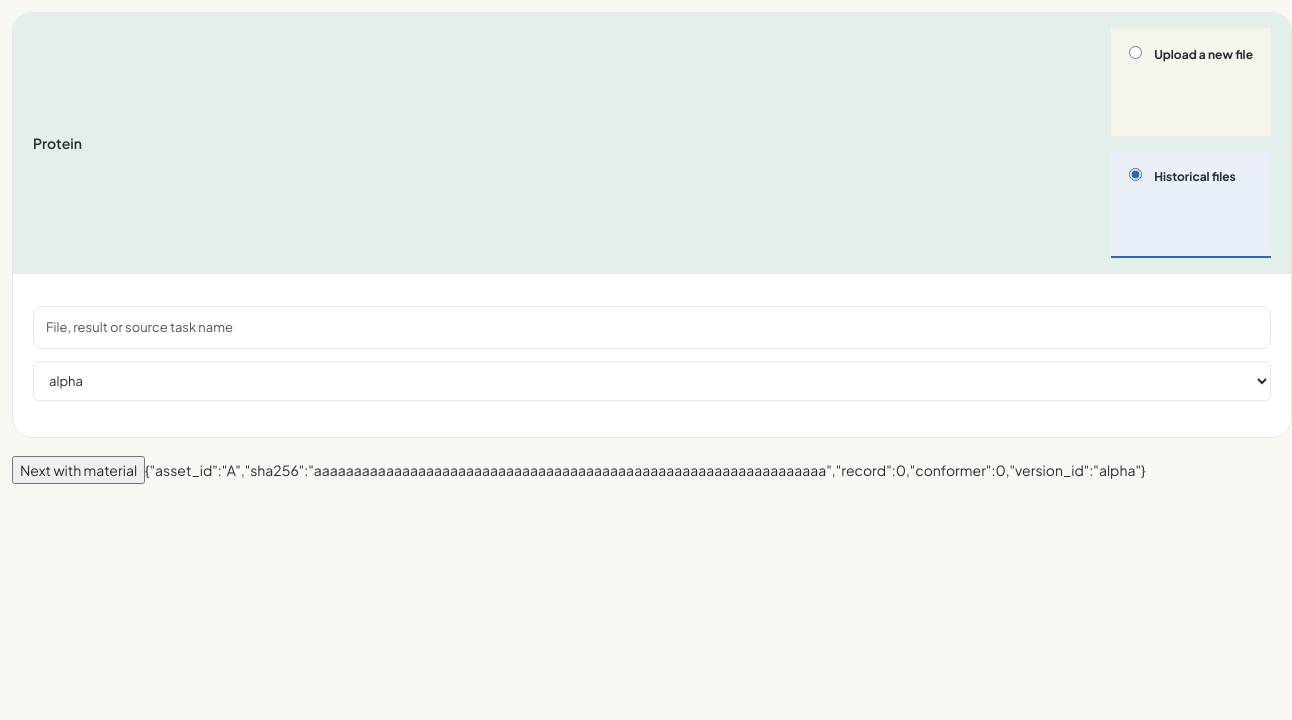
Test: rejects a saved-version hash mismatch and does not reveal internal service details
Select "beta" in the dropdown named "Protein · Historical files" at [652, 381], box x1=33 y1=361 x2=1271 y2=401
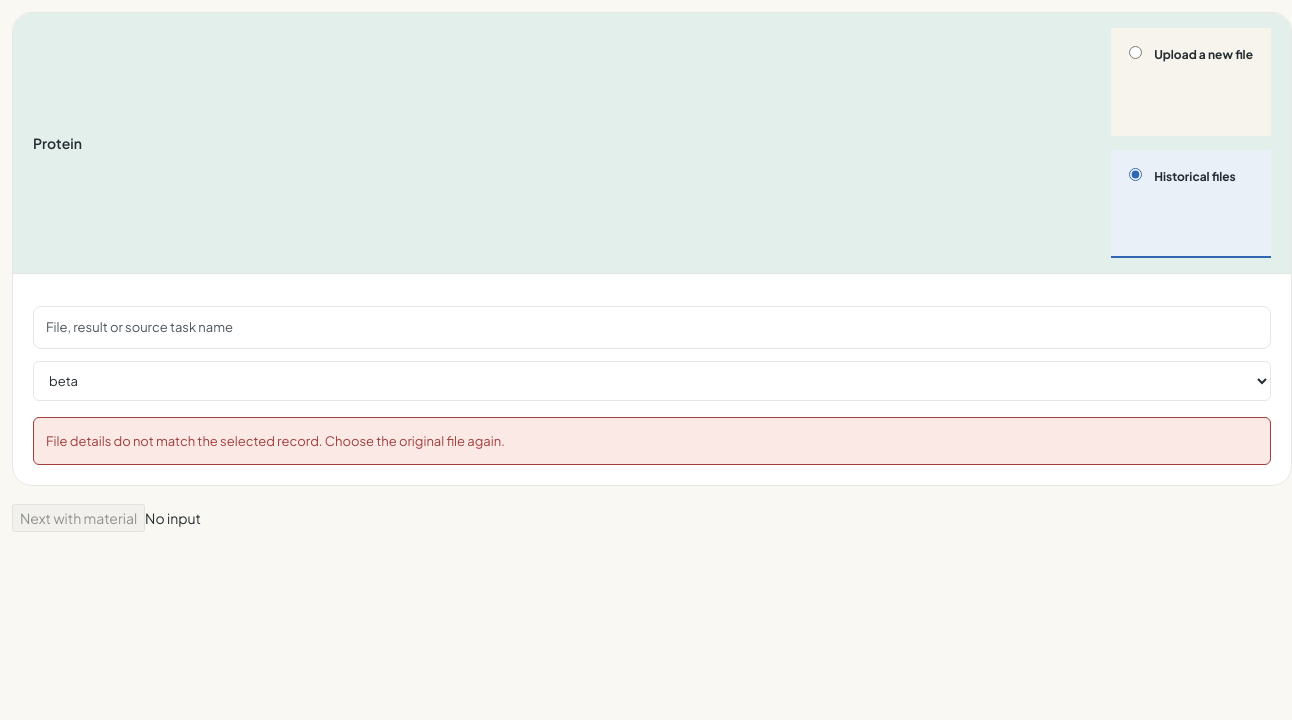
Expected: the message shows "do not match", x1=46 y1=433 x2=505 y2=449
Expected: the button "Next with material" is disabled, x1=12 y1=504 x2=145 y2=532
